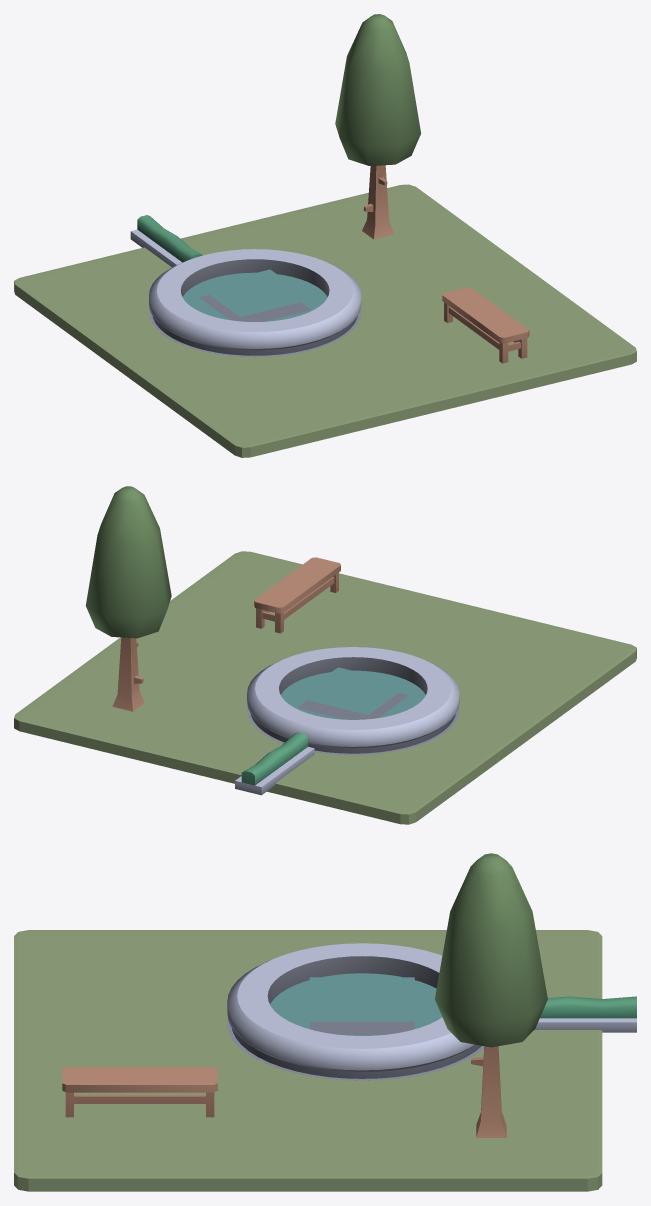
The model's file is park-0.glb.
3 renders of one model, top to bottom at view 1: azimuth 30°, elevation 25°; view 2: azimuth 150°, elevation 25°; view 3: azimuth 270°, elevation 25°, orthographic. The views are drawn at different scales.
Visible parts, largest first — view 1: garden base, fountain-round.001, tree-high-round.001, stall-bench.001, (%ignore).003, hedge.001, (%ignore).001, fountain-center.001; view 2: garden base, fountain-round.001, tree-high-round.001, stall-bench.001, (%ignore).003, hedge.001, (%ignore).001, fountain-center.001; view 3: garden base, fountain-round.001, tree-high-round.001, stall-bench.001, (%ignore).003, hedge.001, (%ignore).001, fountain-center.001.
Part boxes in pixels (x1,y1,x2,y2): garden base: [14, 184, 636, 457]; fountain-round.001: [149, 249, 361, 357]; tree-high-round.001: [335, 14, 420, 239]; stall-bench.001: [442, 287, 529, 363]; (%ignore).003: [199, 269, 310, 316]; hedge.001: [130, 215, 202, 267]; (%ignore).001: [182, 272, 327, 321]; fountain-center.001: [199, 294, 310, 321]; garden base: [14, 551, 636, 824]; fountain-round.001: [247, 647, 459, 754]; tree-high-round.001: [85, 486, 171, 711]; stall-bench.001: [254, 557, 340, 633]; (%ignore).003: [297, 667, 409, 714]; hedge.001: [235, 732, 314, 795]; (%ignore).001: [281, 670, 425, 719]; fountain-center.001: [297, 692, 409, 719]; garden base: [14, 930, 602, 1191]; fountain-round.001: [227, 943, 484, 1080]; tree-high-round.001: [435, 853, 547, 1137]; stall-bench.001: [62, 1067, 217, 1117]; (%ignore).003: [309, 977, 414, 1021]; hedge.001: [534, 996, 636, 1032]; (%ignore).001: [270, 973, 442, 1035]; fountain-center.001: [309, 1021, 414, 1034].
Bounding box in the file's own units: 1.96 × 1.06 × 2.08.
